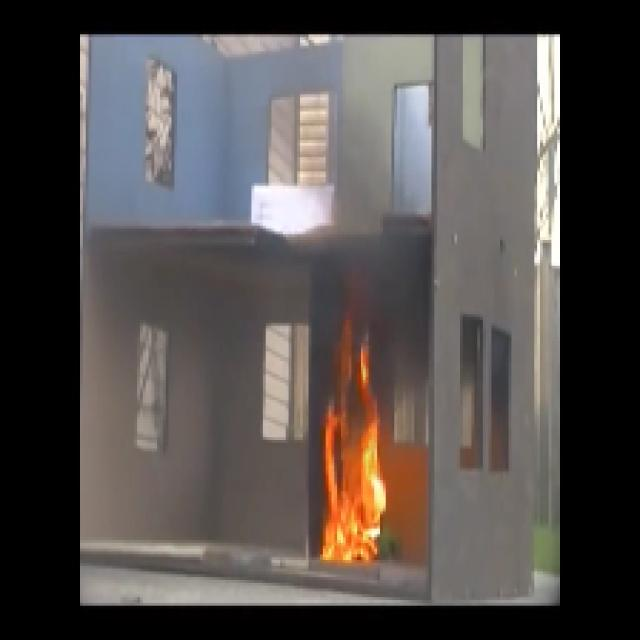fire: (318, 310, 389, 568)
